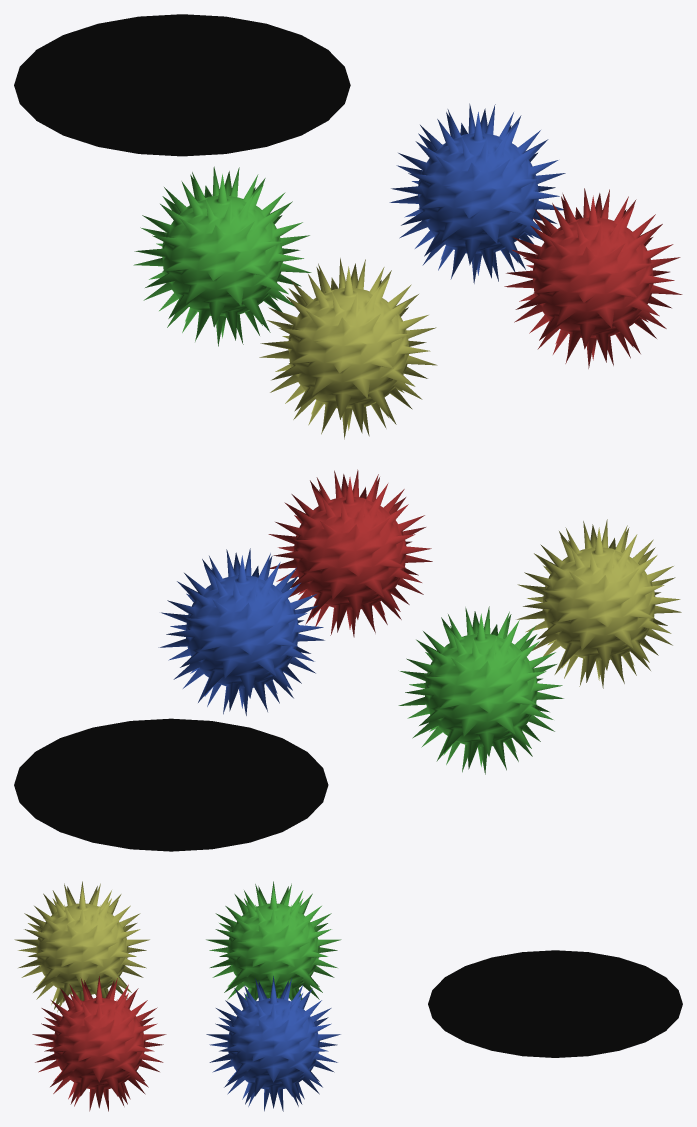
The model's file is KR_Model_Pitfall_v01_Vang.fbx.
The picture shows the model from 3 angles, top to bottom: view 1: azimuth 30°, elevation 25°; view 2: azimuth 150°, elevation 25°; view 3: azimuth 270°, elevation 25°; orthographic projection. The views are drawn at different scales.
Visible parts, largest first — view 1: holeshader1, pSphere5, pSphere4, pSphere2, pSphere3; view 2: holeshader1, pSphere2, pSphere3, pSphere4, pSphere5; view 3: holeshader1, pSphere5, pSphere3, pSphere4, pSphere2.
Part boxes in pixels (bbox=[...]): holeshader1: bbox=[14, 14, 350, 156]; pSphere5: bbox=[504, 188, 682, 368]; pSphere4: bbox=[259, 258, 437, 439]; pSphere2: bbox=[133, 166, 311, 346]; pSphere3: bbox=[389, 103, 565, 283]; holeshader1: bbox=[14, 718, 328, 851]; pSphere2: bbox=[398, 606, 563, 774]; pSphere3: bbox=[158, 548, 324, 715]; pSphere4: bbox=[516, 519, 681, 688]; pSphere5: bbox=[268, 469, 432, 637]; holeshader1: bbox=[428, 950, 682, 1057]; pSphere5: bbox=[32, 976, 166, 1111]; pSphere3: bbox=[206, 976, 340, 1111]; pSphere4: bbox=[14, 881, 149, 1012]; pSphere2: bbox=[206, 881, 341, 1000].
Bounding box in the file's own units: 8 × 3.07 × 14.84.
